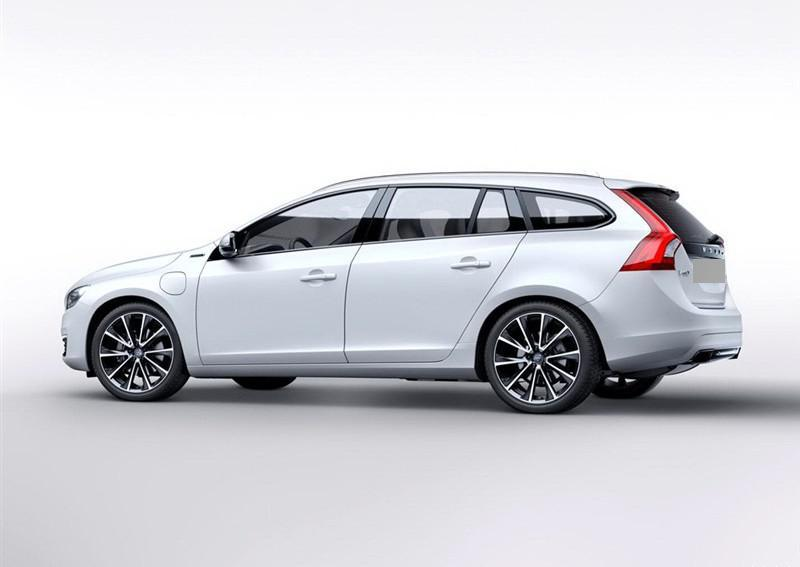Wagon: (55, 166, 749, 418)
